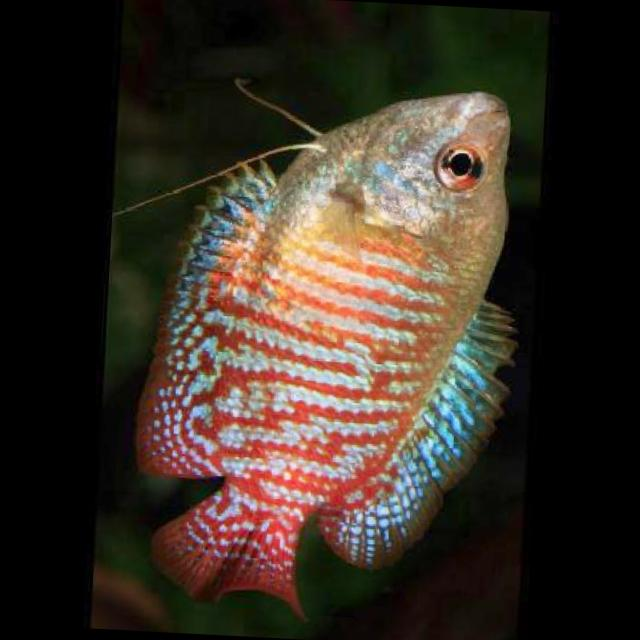Gourami: (127, 79, 525, 612)
